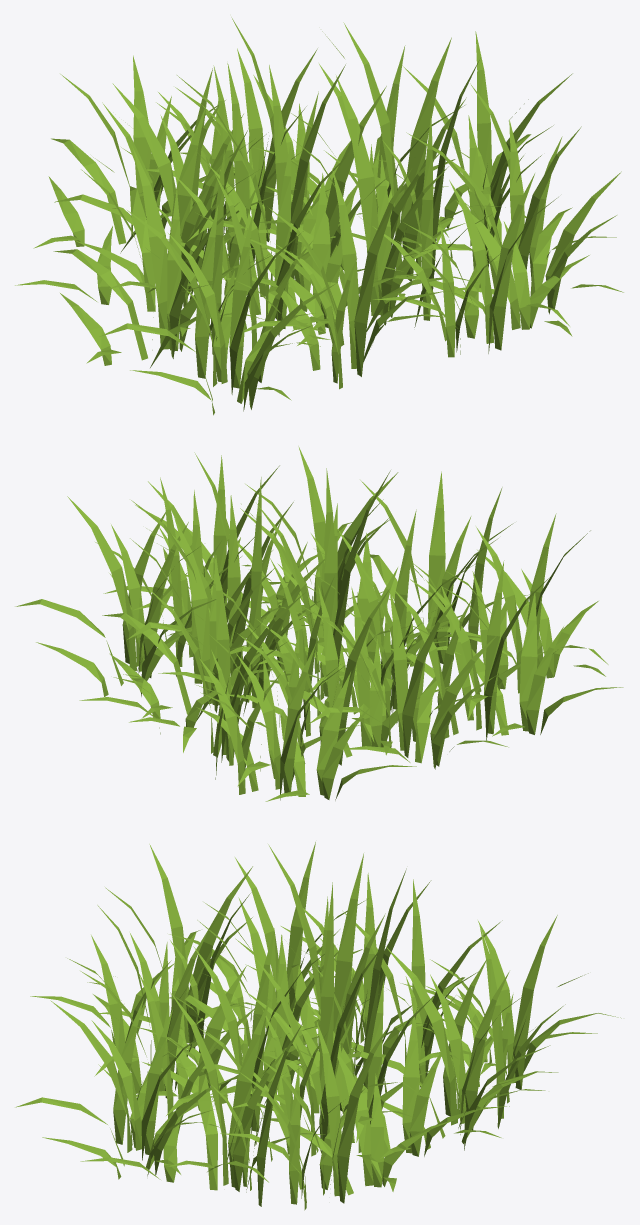
Rendered from grass-middle-c.gltf.
The picture shows the model from 3 angles, top to bottom: view 1: azimuth 30°, elevation 25°; view 2: azimuth 150°, elevation 25°; view 3: azimuth 270°, elevation 25°; orthographic projection. The views are drawn at different scales.
Parts seen in each view (by area): view 1: grass-middle-c; view 2: grass-middle-c; view 3: grass-middle-c.
Part boxes in pixels (x1,y1,x2,y2): grass-middle-c: (15, 17, 623, 415); grass-middle-c: (15, 446, 623, 801); grass-middle-c: (15, 842, 621, 1210).
Size of the model in its own units: 0.0171 by 0.00788 by 0.0171.
